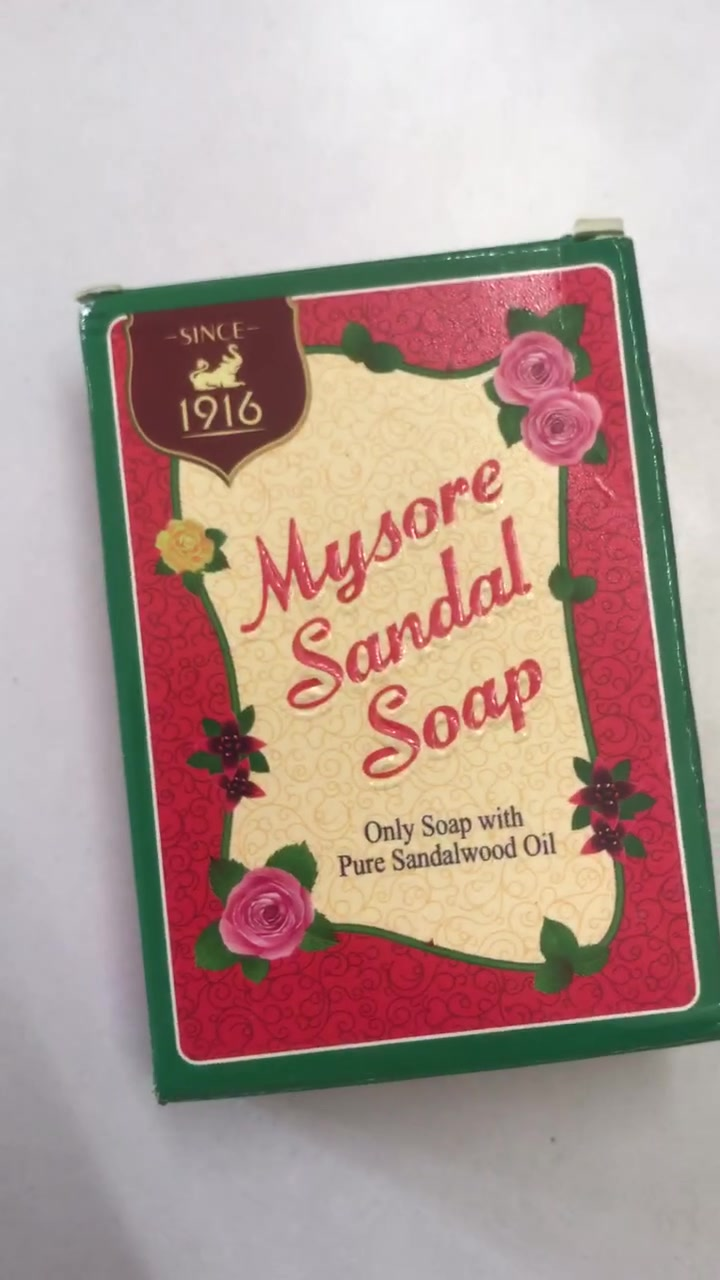mysore sandal soap: (84, 242, 720, 1102)
